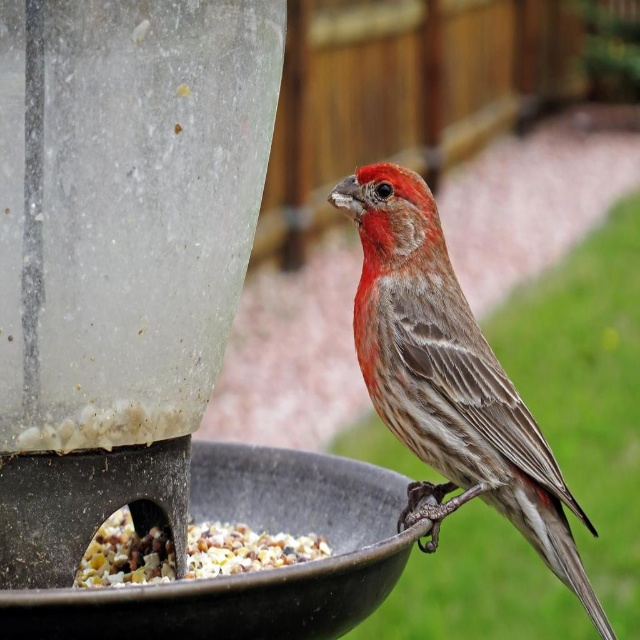Sparrow: (327, 163, 618, 640)
